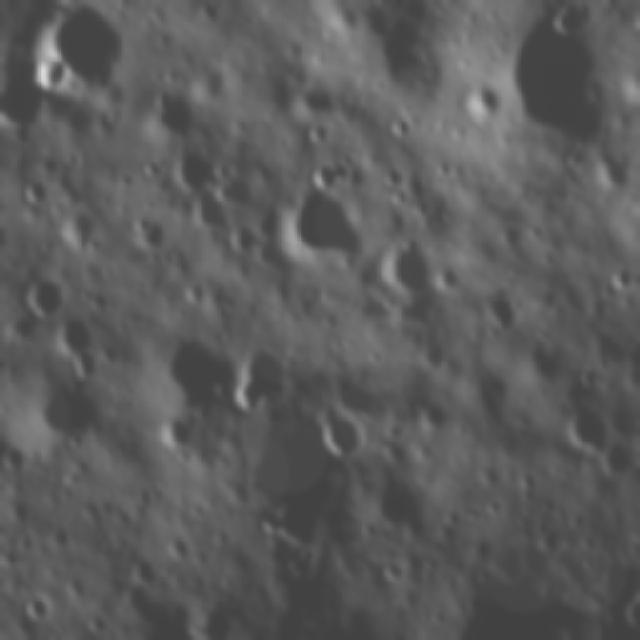crater: (498, 11, 605, 134), (31, 0, 125, 95), (149, 334, 234, 412), (286, 189, 362, 260), (227, 342, 293, 416), (32, 383, 102, 437), (56, 311, 101, 380), (557, 406, 609, 460), (314, 402, 360, 462), (144, 89, 198, 137), (456, 79, 502, 130), (391, 242, 431, 293), (479, 288, 518, 335), (150, 414, 195, 451), (184, 195, 228, 232), (25, 280, 67, 318), (405, 402, 449, 436), (175, 155, 220, 187), (56, 216, 98, 250), (596, 153, 630, 192), (246, 508, 286, 537), (600, 263, 632, 295), (19, 175, 50, 208), (134, 217, 163, 252), (134, 151, 164, 184), (496, 218, 522, 255), (125, 561, 164, 585), (572, 358, 600, 390), (162, 534, 190, 564), (234, 222, 257, 258), (193, 1, 225, 22), (33, 155, 61, 177), (26, 595, 48, 623), (383, 557, 406, 583), (4, 438, 21, 473), (532, 532, 559, 554), (574, 533, 600, 555), (306, 124, 332, 145), (87, 611, 108, 637), (564, 510, 588, 532), (471, 539, 494, 561), (387, 186, 410, 208), (375, 290, 397, 313), (7, 503, 30, 525), (514, 471, 538, 492), (380, 165, 406, 184), (482, 496, 504, 518), (184, 282, 202, 308), (392, 116, 413, 138), (434, 160, 455, 182), (437, 268, 458, 290), (366, 343, 383, 365), (358, 520, 377, 538)
